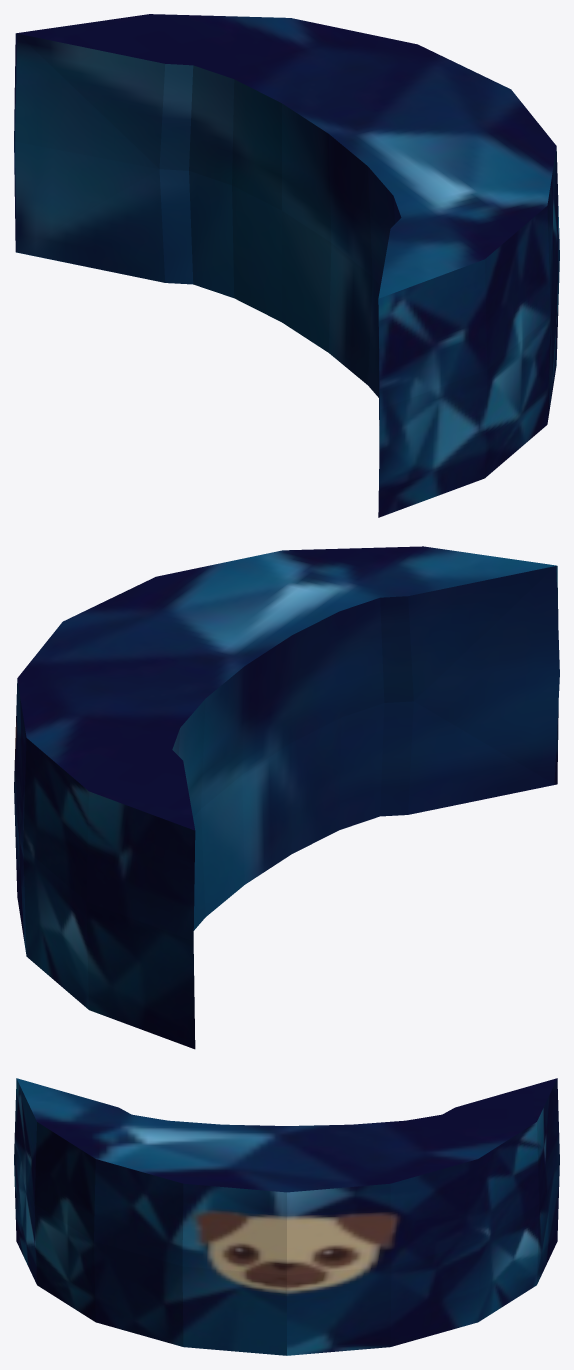
File: pugdesk3.dae
3 views of the same model, one above another, from view 1: azimuth 30°, elevation 25°; view 2: azimuth 150°, elevation 25°; view 3: azimuth 270°, elevation 25° (orthographic). The views are drawn at different scales.
Parts seen in each view (by area): view 1: Torus; view 2: Torus; view 3: Torus.
Boxes of the visible parts, x1,y1,x2,y2 form: Torus: (14,14,559,517); Torus: (14,546,559,1049); Torus: (14,1078,559,1355).
Size of the model in its own units: 0.9337 by 1.86 by 0.6149.
1 material, 1 textured.
